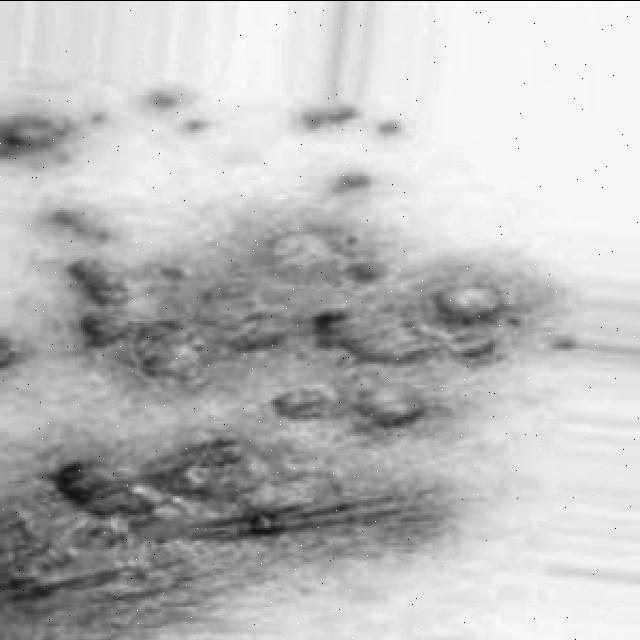Shingles: (0, 113, 522, 598)
